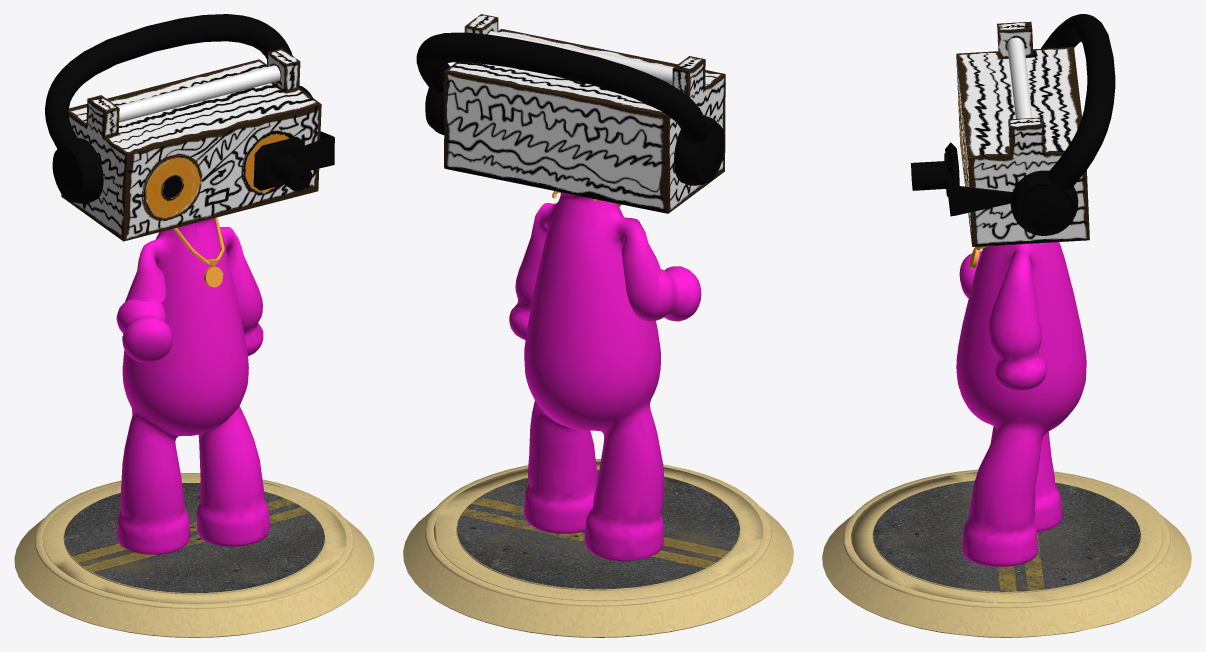
3 renders of one model, left to right at view 1: azimuth 30°, elevation 25°; view 2: azimuth 150°, elevation 25°; view 3: azimuth 270°, elevation 25°, orthographic. The views are drawn at different scales.
Parts seen in each view (by area): view 1: BBody; view 2: BBody; view 3: BBody.
Boxes of the visible parts, <box> form: BBody: <box>14,14,374,637</box>; BBody: <box>403,14,793,637</box>; BBody: <box>822,14,1191,637</box>.
Size of the model in its own units: 1.45 by 2.23 by 1.45.
6 materials, 4 textured.
